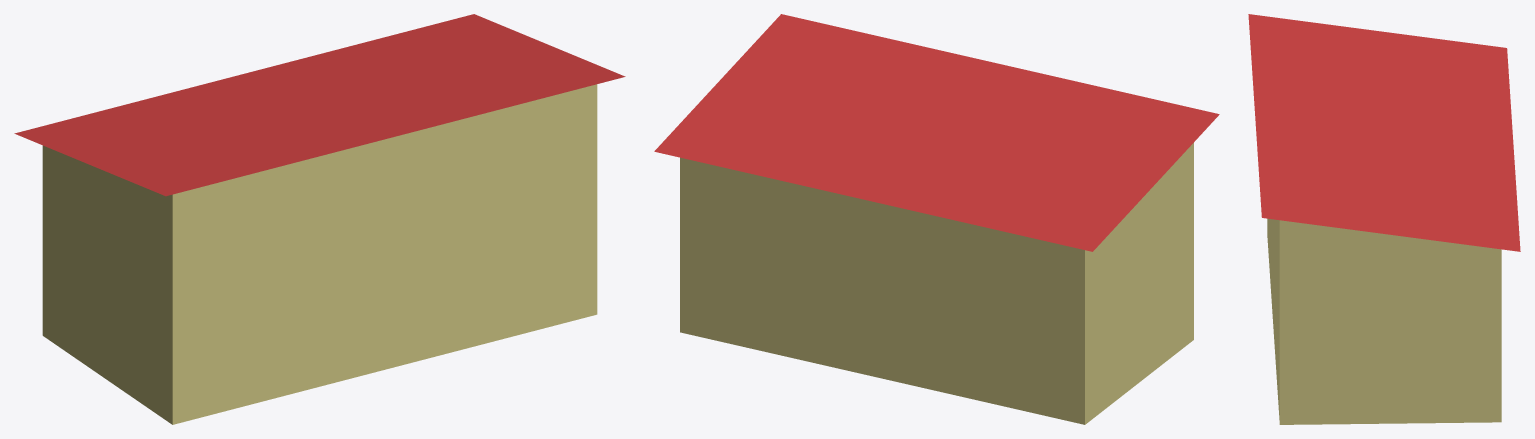
The picture shows the model from 3 angles, left to right: view 1: azimuth 30°, elevation 25°; view 2: azimuth 150°, elevation 25°; view 3: azimuth 270°, elevation 25°; orthographic projection. The views are drawn at different scales.
Bounding box in the file's own units: 13.25 × 7.36 × 6.42.
